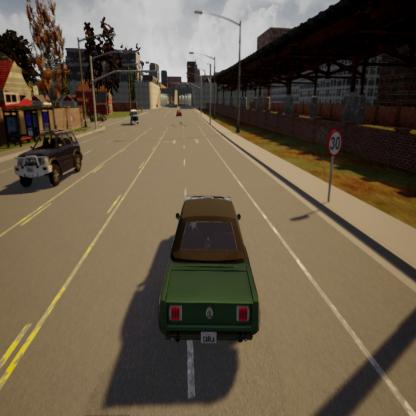Cars: (149, 189, 265, 349), (12, 128, 89, 190), (127, 108, 141, 128), (174, 106, 183, 118)
